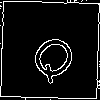Q: (25, 25, 88, 87)
